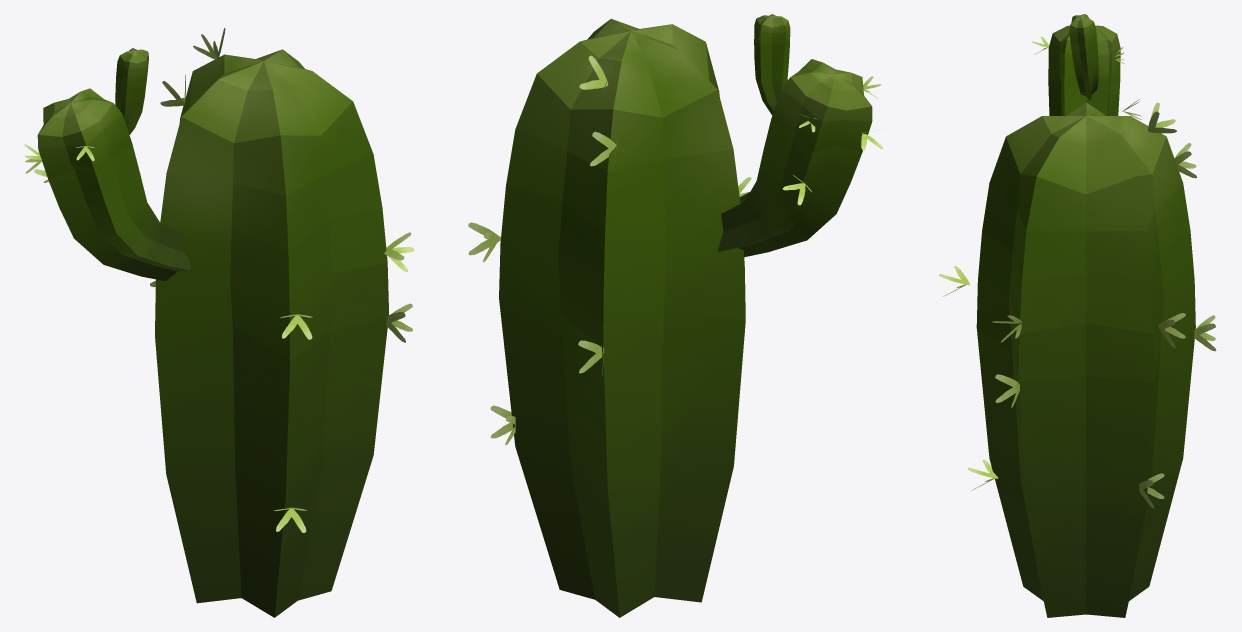
The model's file is Cactus_Small.fbx.
3 renders of one model, left to right at view 1: azimuth 30°, elevation 25°; view 2: azimuth 150°, elevation 25°; view 3: azimuth 270°, elevation 25°, orthographic. The views are drawn at different scales.
Visible parts, largest first — view 1: Cactus_Small; view 2: Cactus_Small; view 3: Cactus_Small.
Part boxes in pixels (left/top/right/bottom): Cactus_Small: left=24, top=28, right=414, bottom=617; Cactus_Small: left=468, top=14, right=882, bottom=617; Cactus_Small: left=939, top=14, right=1216, bottom=617.
Size of the model in its own units: 2.51 by 3.66 by 1.91.
